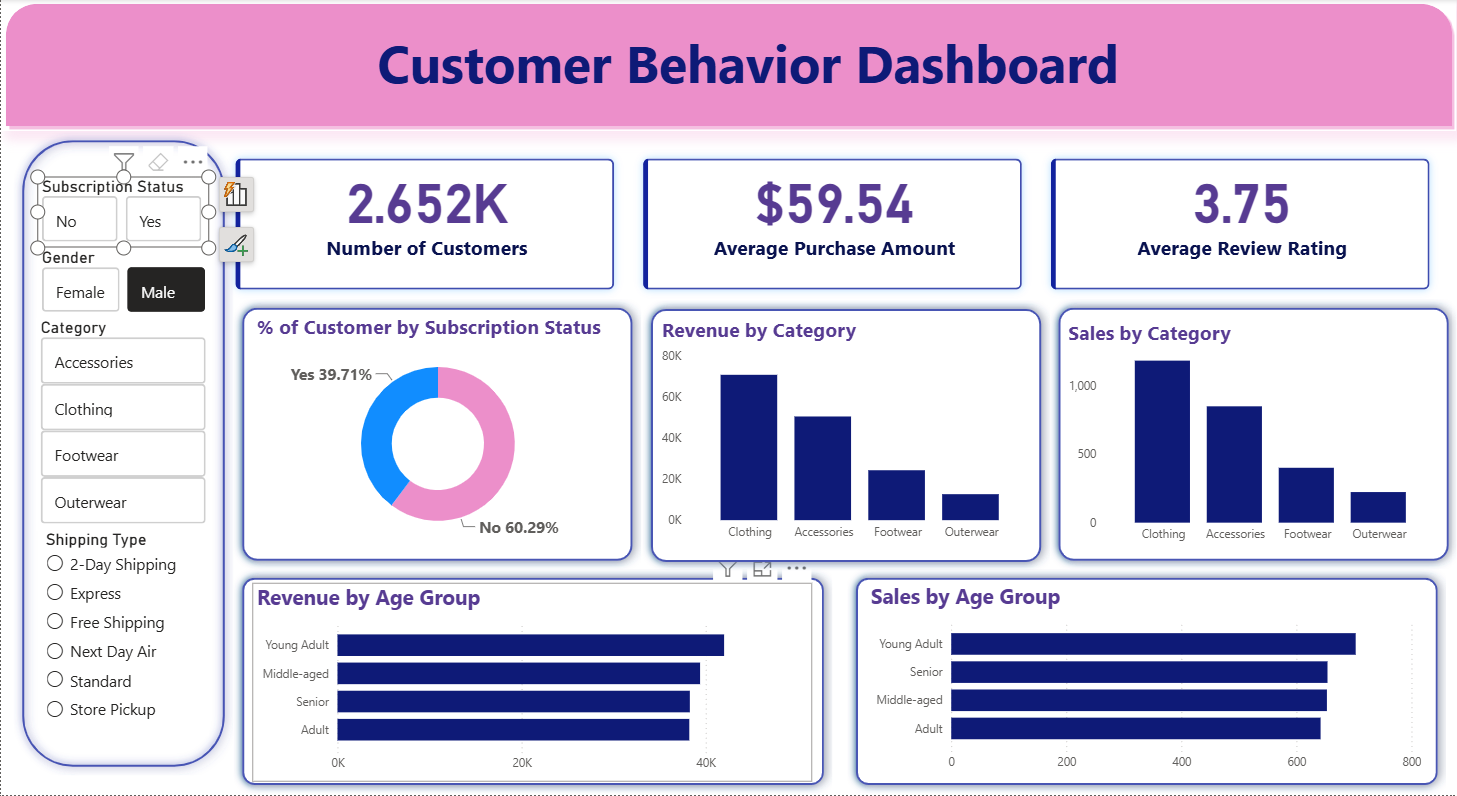

The dashboard page shown, as its layout file describes it:
{"tool":"powerbi","page":{"name":"Page 1","canvas":[1500,820],"ordinal":0},"visuals":[{"type":"cardVisual","fields":{"Data":["customer_behavior customer.Number of Customers","customer_behavior customer.Average Purchase Amount","customer_behavior customer.Average Review Rating"]},"box":[213.3,136.7,1286.7,191.7],"z":0},{"type":"shape","box":[240,587.1,617.1,231.4],"z":1000},{"type":"shape","box":[0,0,1500,136],"z":2000},{"type":"clusteredBarChart","title":"Revenue by Age Group","fields":{"Y":["Sum(customer_behavior customer.purchase_amount)"],"Category":["customer_behavior customer.age_group"]},"box":[258.6,601.4,577.1,204.3],"z":3000},{"type":"textbox","box":[38,24,1462,100],"z":4000},{"type":"shape","box":[1080,308.6,420,278.6],"z":5000},{"type":"shape","box":[660,310,420,278.6],"z":6000},{"type":"clusteredColumnChart","title":"Revenue by Category","fields":{"Category":["customer_behavior customer.category"],"Y":["Sum(customer_behavior customer.purchase_amount)"]},"box":[675.7,327.1,390,240],"z":7000},{"type":"shape","box":[240,308.6,420,278.6],"z":8000},{"type":"clusteredColumnChart","title":"Sales by Category","fields":{"Category":["customer_behavior customer.category"],"Y":["CountNonNull(customer_behavior customer.customer_id)"]},"box":[1094.3,330,390,240],"z":9000},{"type":"shape","box":[13.3,136.7,226.7,663.3],"z":10000},{"type":"advancedSlicerVisual","title":"Gender","fields":{"Values":["customer_behavior customer.gender"]},"box":[37.9,255.6,179.8,71.6],"z":11000},{"type":"advancedSlicerVisual","title":"Subscription Status","fields":{"Values":["customer_behavior customer.subscription_status"]},"box":[37.9,182.6,175.6,73],"z":12000},{"type":"advancedSlicerVisual","title":"Category","fields":{"Values":["customer_behavior customer.category"]},"box":[36.1,328.4,180.3,218.9],"z":13000},{"type":"listSlicer","title":"Shipping Type","fields":{"Values":["customer_behavior customer.shipping_type"]},"box":[41.2,546,172.6,213.8],"z":14000},{"type":"donutChart","title":"% of Customer by Subscription Status","fields":{"Category":["customer_behavior customer.subscription_status"],"Y":["CountNonNull(customer_behavior customer.customer_id)"]},"box":[258.6,322.9,382.9,244.3],"z":15000},{"type":"shape","box":[871.4,587.1,617.1,231.4],"z":16000},{"type":"clusteredBarChart","title":"Sales by Age Group","fields":{"Y":["CountNonNull(customer_behavior customer.customer_id)"],"Category":["customer_behavior customer.age_group"]},"box":[891.4,600,577.1,204.3],"z":17000}]}

Visuals, with their boxes in screenshot pixels (x1, y1, x2, y2), scaled from the page's 1500x820 canvas onto the 1457x796 screenshot:
cardVisual - customer_behavior customer.Number of Customers x customer_behavior customer.Average Purchase Amount: <bbox>207, 133, 1456, 319</bbox>
shape: <bbox>233, 570, 833, 795</bbox>
shape: <bbox>0, 0, 1456, 132</bbox>
"Revenue by Age Group" clusteredBarChart: <bbox>251, 584, 812, 782</bbox>
textbox: <bbox>37, 23, 1456, 120</bbox>
shape: <bbox>1049, 300, 1456, 570</bbox>
shape: <bbox>641, 301, 1049, 571</bbox>
"Revenue by Category" clusteredColumnChart: <bbox>656, 318, 1035, 551</bbox>
shape: <bbox>233, 300, 641, 570</bbox>
"Sales by Category" clusteredColumnChart: <bbox>1063, 320, 1442, 553</bbox>
shape: <bbox>13, 133, 233, 777</bbox>
"Gender" advancedSlicerVisual: <bbox>37, 248, 211, 318</bbox>
"Subscription Status" advancedSlicerVisual: <bbox>37, 177, 207, 248</bbox>
"Category" advancedSlicerVisual: <bbox>35, 319, 210, 531</bbox>
"Shipping Type" listSlicer: <bbox>40, 530, 208, 738</bbox>
"% of Customer by Subscription Status" donutChart: <bbox>251, 313, 623, 551</bbox>
shape: <bbox>846, 570, 1446, 795</bbox>
"Sales by Age Group" clusteredBarChart: <bbox>866, 582, 1426, 781</bbox>
